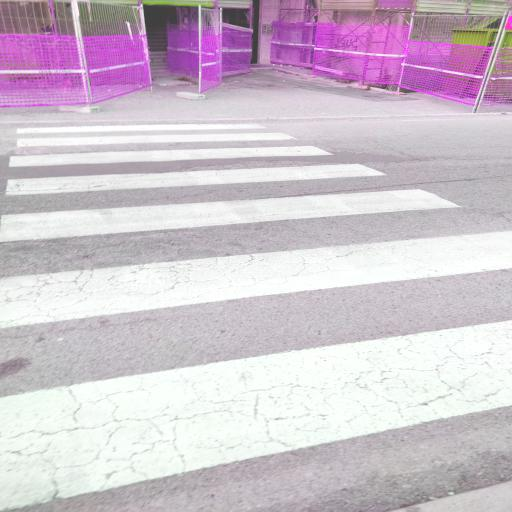crosswalk: (2, 226, 512, 511), (4, 144, 395, 200)
